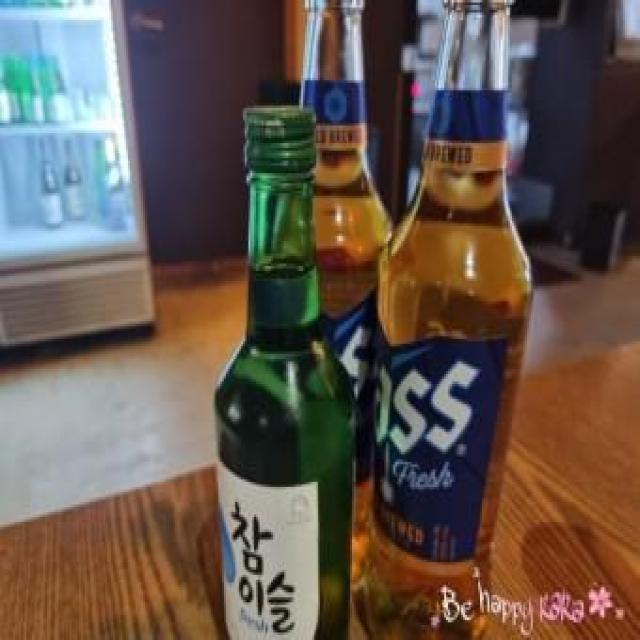beer-bottle: (373, 0, 538, 552)
soju-bottle: (230, 100, 370, 640)
